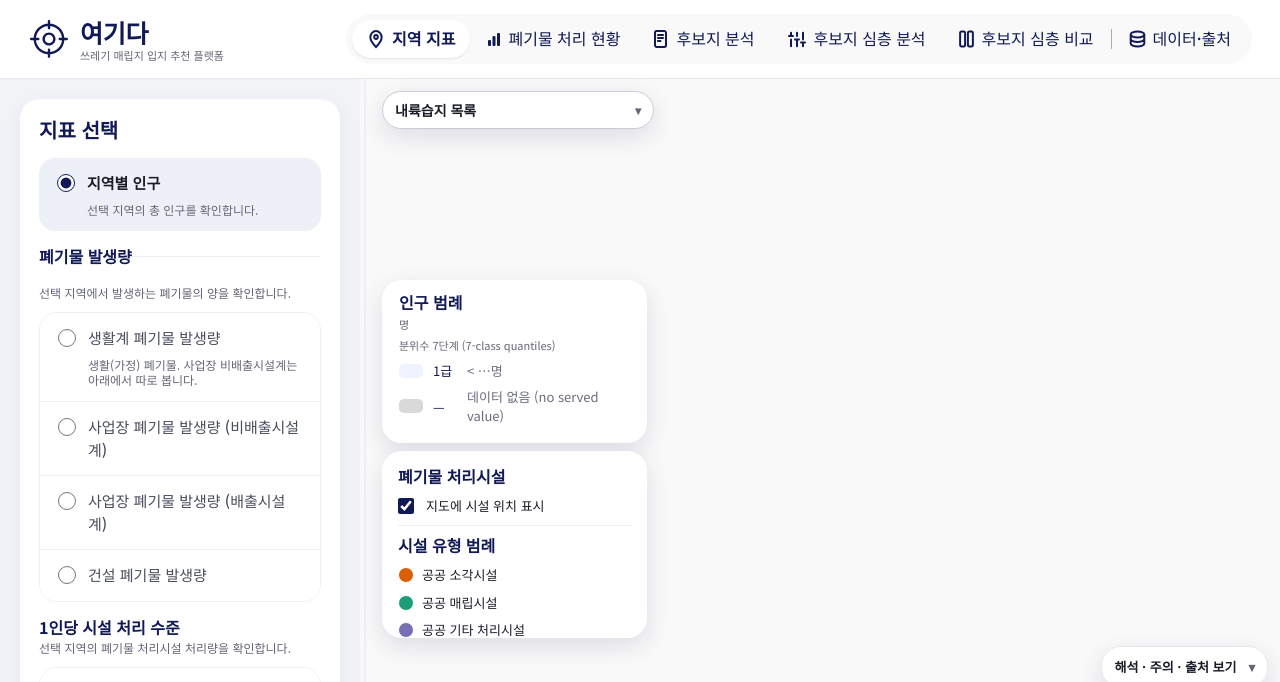
Test: primary navigation uses plain Korean › shows a plain-language orientation for an area that has one
The width and height of the screenshot is (1280, 682).
Click the button with test id "mode-flow". click: (554, 39)
box: [472,20,636,58]
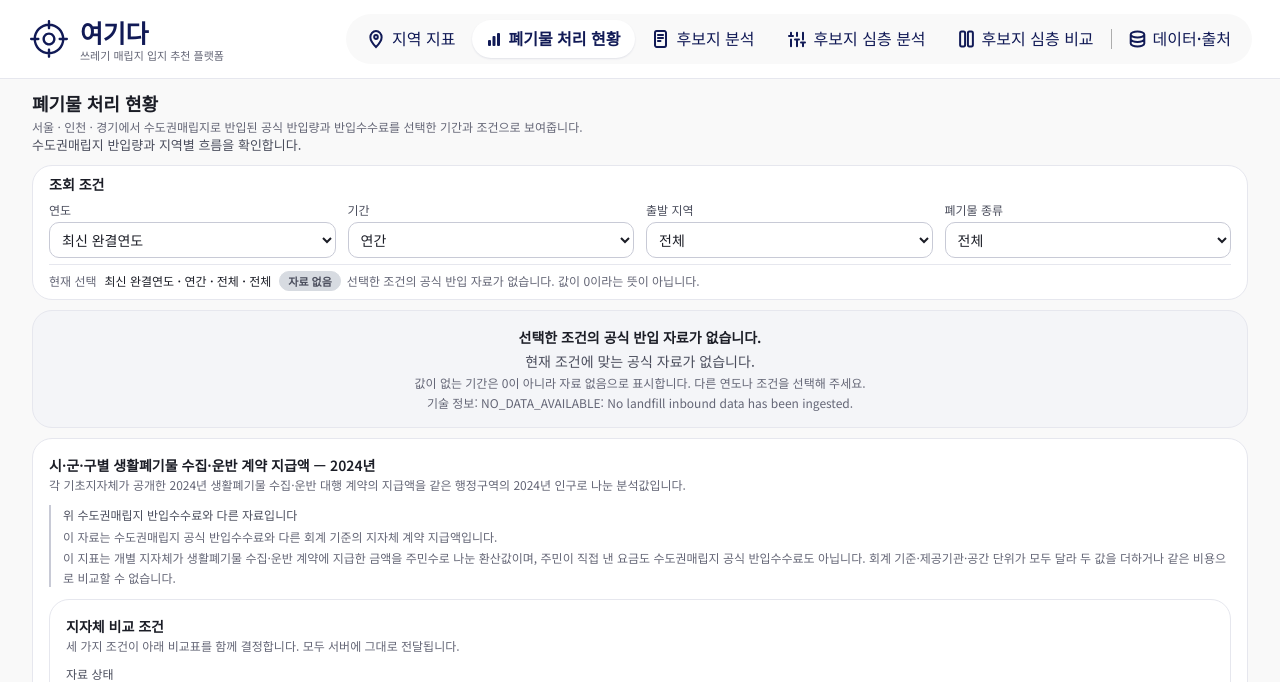
Now the text with test id "mode-orientation" reads "수도권매립지 반입량과 지역별 흐름을 확인합니다.", box [32,135,301,154]
